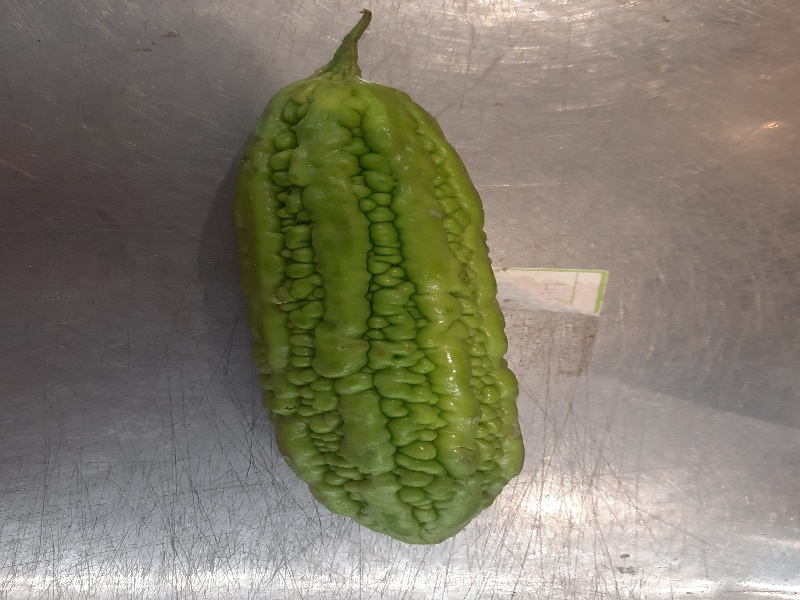vege: (228, 3, 528, 562)
